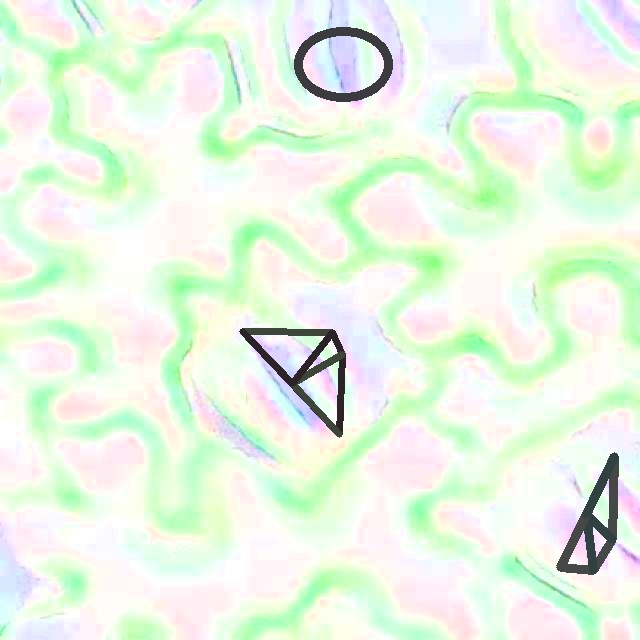close: (557, 453, 615, 574)
open: (239, 329, 344, 437), (293, 25, 393, 102)
